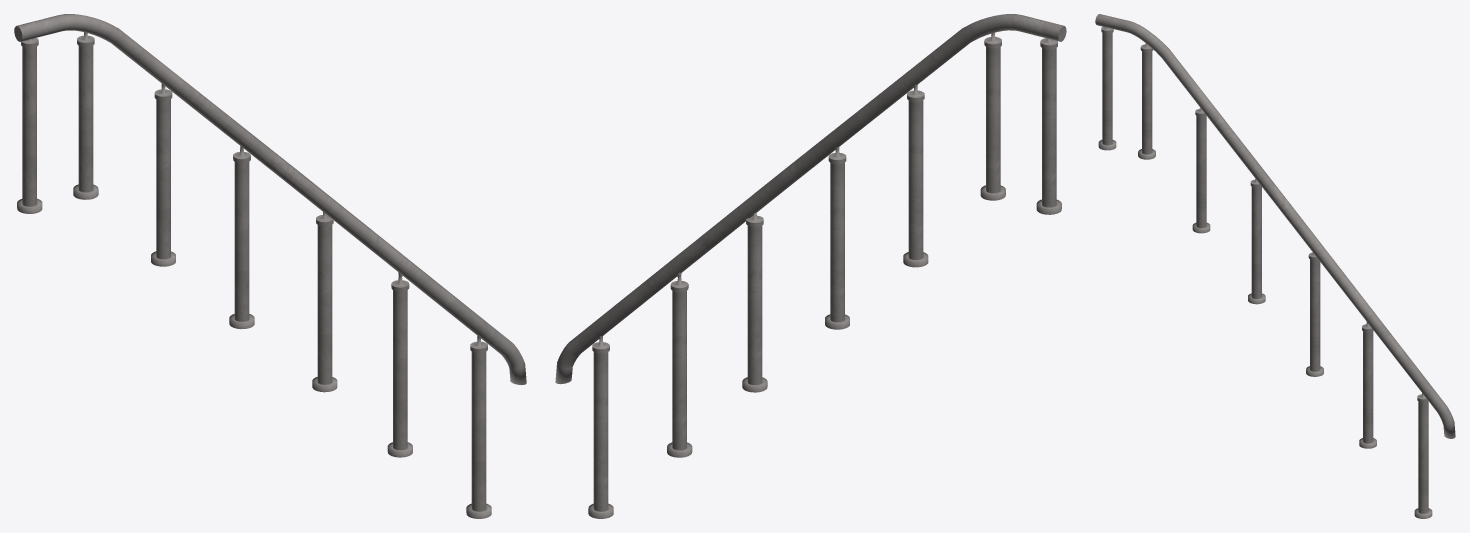
Rendered from SM_G_Banister.fbx.
3 renders of one model, left to right at view 1: azimuth 30°, elevation 25°; view 2: azimuth 150°, elevation 25°; view 3: azimuth 330°, elevation 25°, orthographic. The views are drawn at different scales.
Visible parts, largest first — view 1: SM_G_Banister; view 2: SM_G_Banister; view 3: SM_G_Banister.
Part boxes in pixels (box(x1,y1,x2,y2)): SM_G_Banister: box(14, 14, 526, 518); SM_G_Banister: box(555, 14, 1066, 518); SM_G_Banister: box(1095, 14, 1455, 518).
Size of the model in its own units: 317 by 359 by 13.76.
